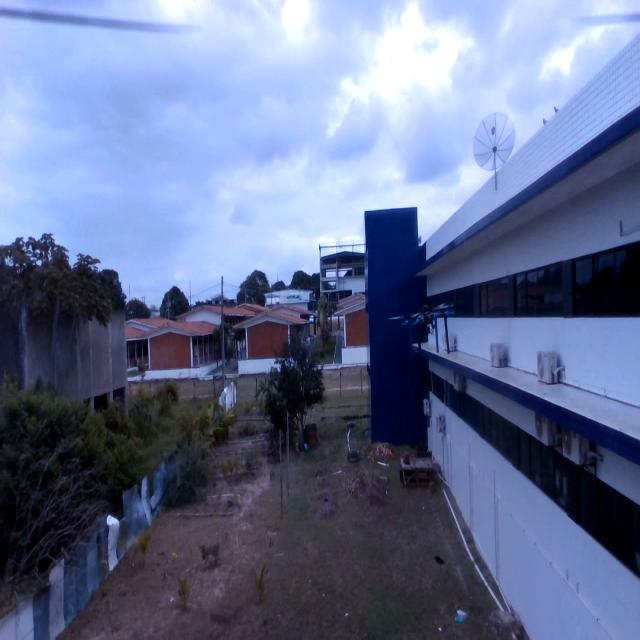-uav-: (388, 283, 459, 364)
